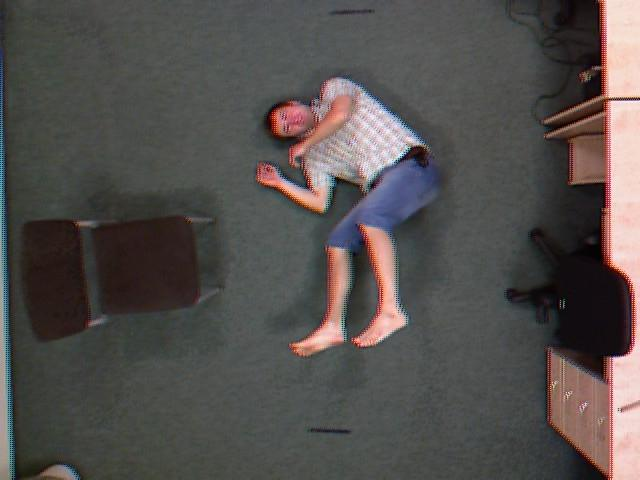fall: (245, 71, 454, 361)
